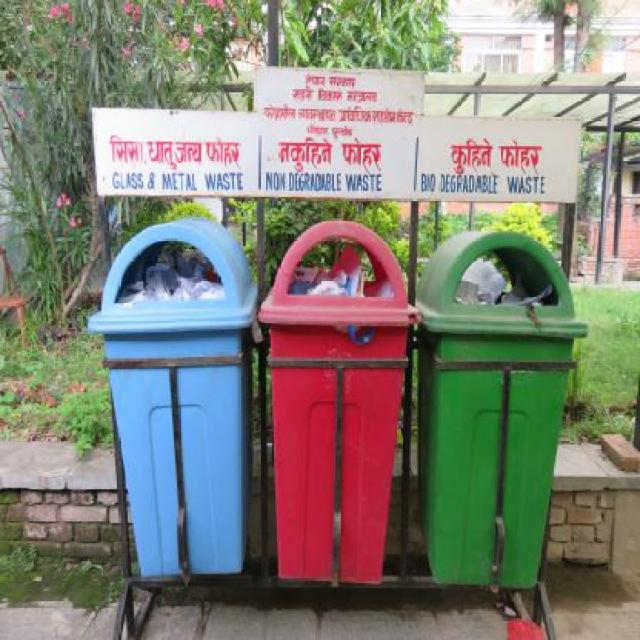garbage container: (82, 213, 268, 587), (412, 216, 590, 602), (257, 203, 415, 594)
